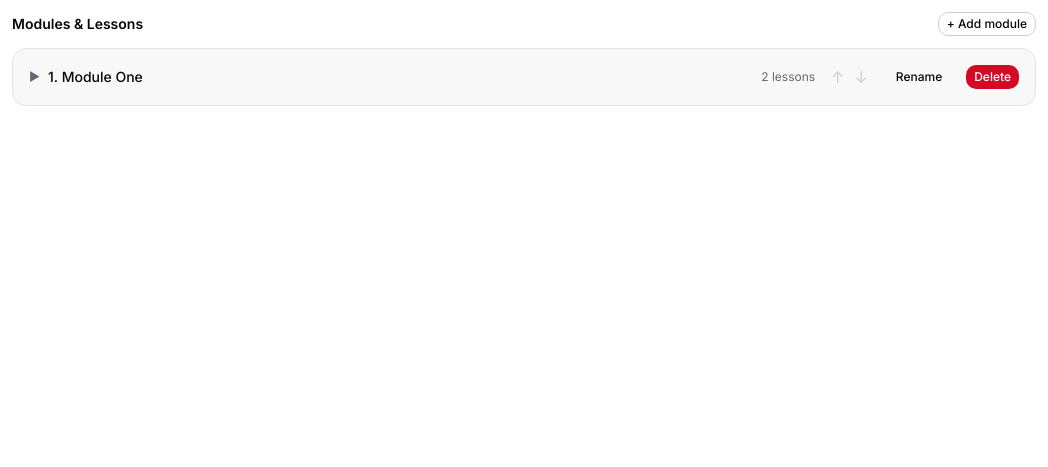
Scenario: ModuleManager — quiz builder › hides QuizBuilder when toggle is clicked again
Click the text "1. Module One" at (95, 76), box [48,68,143,85]
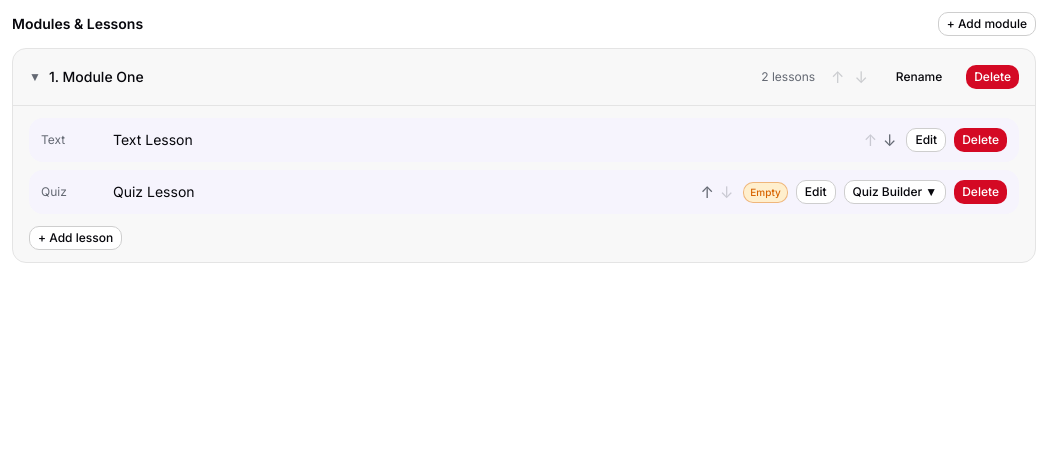
Click the button with test id "toggle-quiz-builder-lesson-quiz" at (895, 192), box [844,180,946,204]
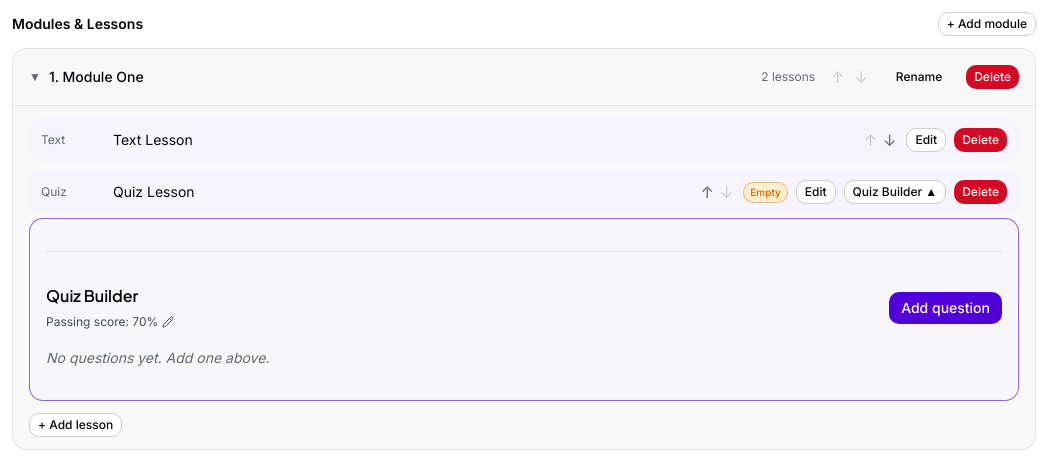
Click the button with test id "toggle-quiz-builder-lesson-quiz" at (895, 192), box [844,180,946,204]
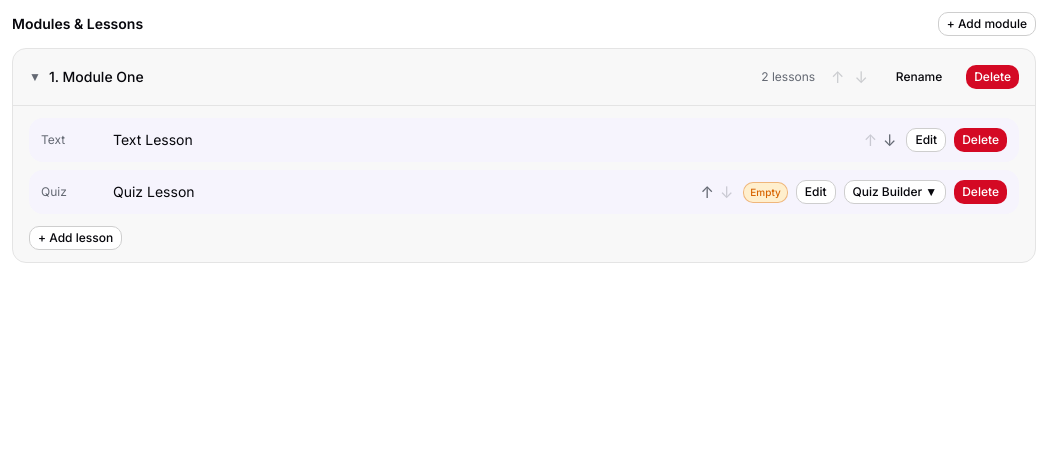
Expected: the element with test id "quiz-builder-panel-lesson-quiz" is gone
Expected: the button with test id "toggle-quiz-builder-lesson-quiz" reads "Quiz Builder ▼", [844,180,946,204]
